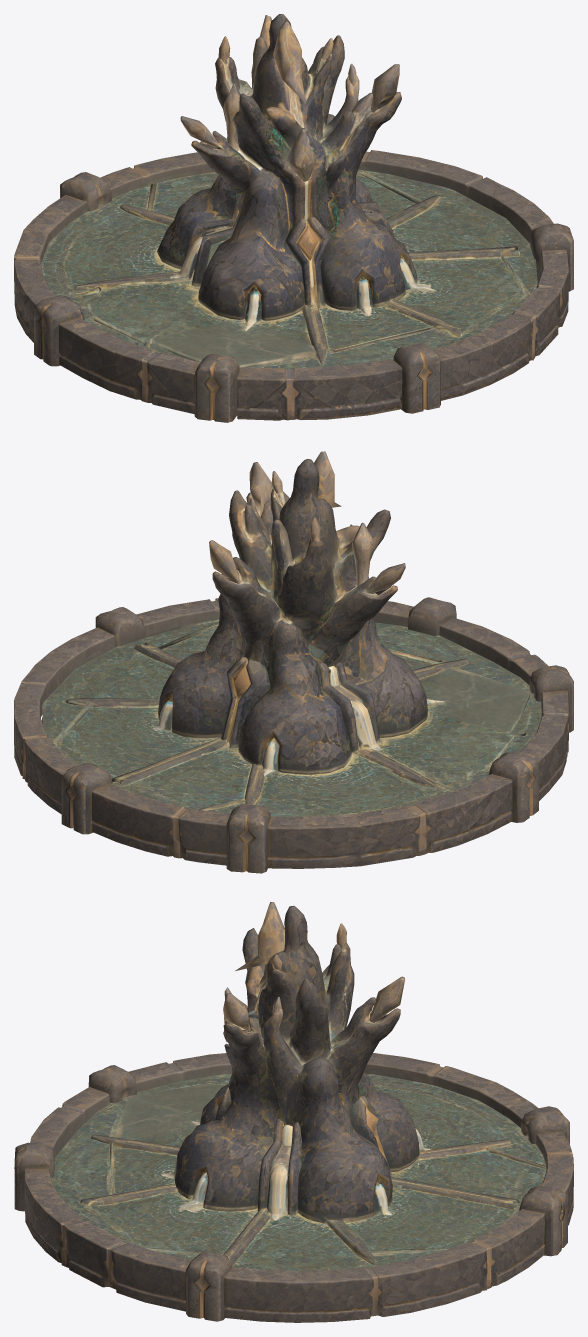
Rendered from MemoryFountain.glb.
3 renders of one model, top to bottom at view 1: azimuth 30°, elevation 25°; view 2: azimuth 150°, elevation 25°; view 3: azimuth 270°, elevation 25°, orthographic.
Visible parts, largest first — view 1: tripo_node_c70d5fee-86aa-4753-9679-47d2a53ddbe8; view 2: tripo_node_c70d5fee-86aa-4753-9679-47d2a53ddbe8; view 3: tripo_node_c70d5fee-86aa-4753-9679-47d2a53ddbe8.
Boxes of the visible parts, <box> form: tripo_node_c70d5fee-86aa-4753-9679-47d2a53ddbe8: <box>14,14,573,422</box>; tripo_node_c70d5fee-86aa-4753-9679-47d2a53ddbe8: <box>14,451,573,873</box>; tripo_node_c70d5fee-86aa-4753-9679-47d2a53ddbe8: <box>14,902,573,1322</box>.
Size of the model in its own units: 0.9995 by 0.5845 by 0.9995.
1 material, 1 textured.
